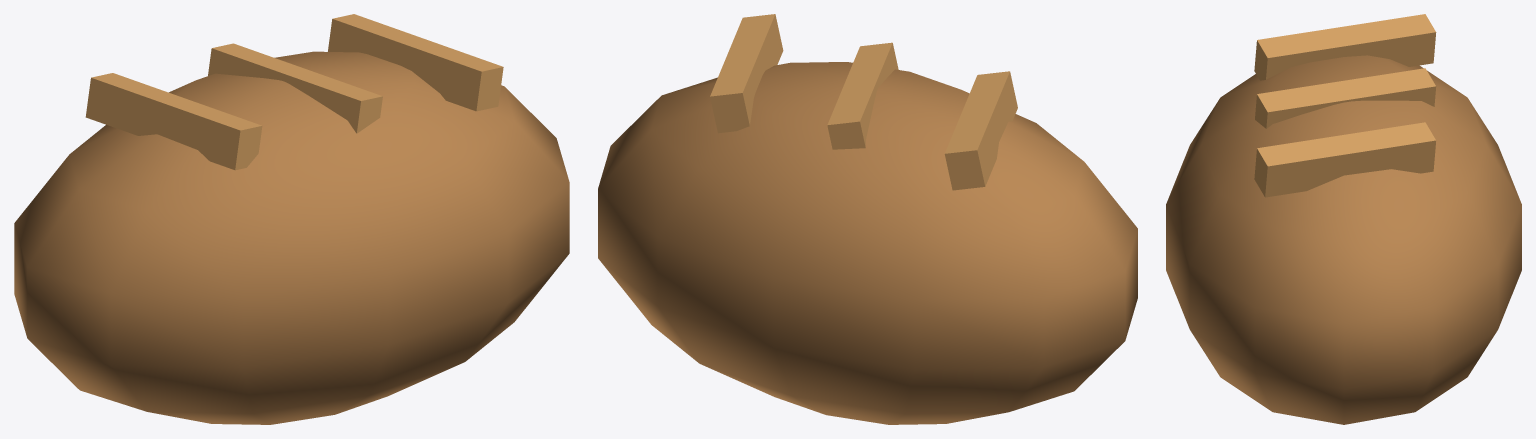
Rendered from loaf.glb.
The picture shows the model from 3 angles, left to right: view 1: azimuth 30°, elevation 25°; view 2: azimuth 150°, elevation 25°; view 3: azimuth 270°, elevation 25°; orthographic projection. The views are drawn at different scales.
Parts seen in each view (by area): view 1: loaf; view 2: loaf; view 3: loaf.
Part boxes in pixels (x1,y1,x2,y2): loaf: (14, 14, 569, 424); loaf: (598, 14, 1137, 424); loaf: (1166, 14, 1521, 424).
Bounding box in the file's own units: 0.2281 × 0.1349 × 0.1445.
